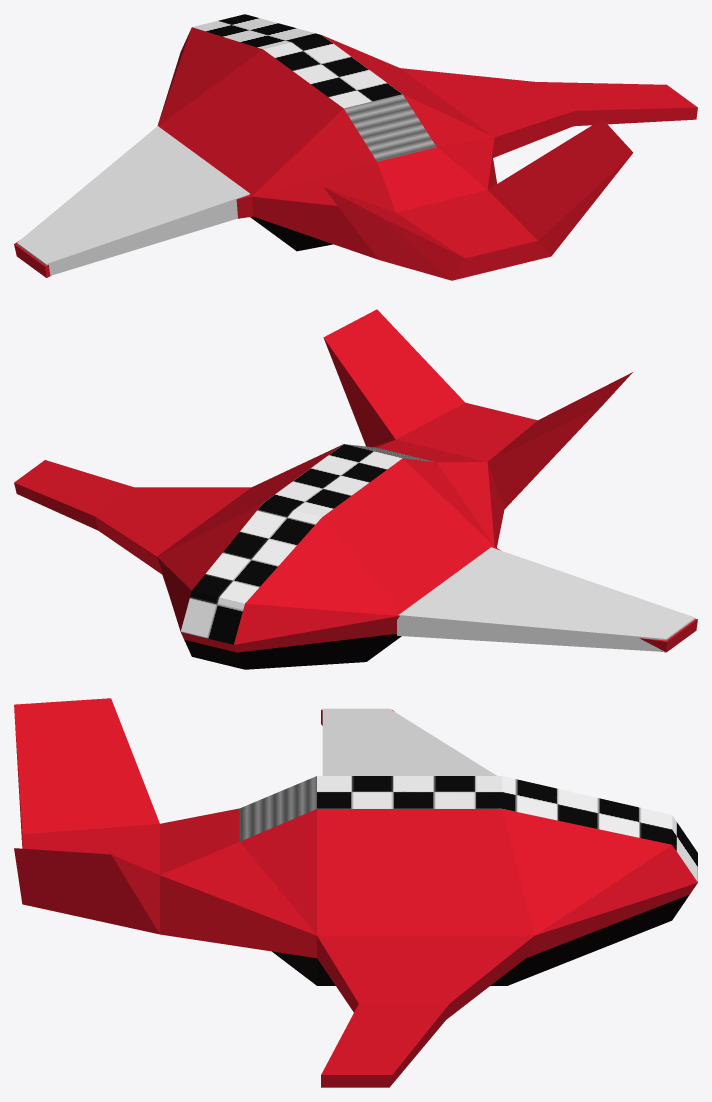
Rendered from enemy_drone.glb.
3 views of the same model, one above another, from view 1: azimuth 30°, elevation 25°; view 2: azimuth 150°, elevation 25°; view 3: azimuth 270°, elevation 25° (orthographic). The views are drawn at different scales.
Visible parts, largest first — view 1: drone01, drone0103_convcolonly.001; view 2: drone01, drone0103_convcolonly.001; view 3: drone01, drone0103_convcolonly.001.
Boxes of the visible parts, x1,y1,x2,y2 form: drone01: [14, 14, 697, 280]; drone0103_convcolonly.001: [17, 126, 249, 275]; drone01: [14, 309, 697, 669]; drone0103_convcolonly.001: [397, 547, 695, 651]; drone01: [14, 698, 697, 1087]; drone0103_convcolonly.001: [322, 708, 496, 775].
Size of what is drawn, in the model's own units: 5.38 by 1.14 by 4.25.
Materials: 1 (1 with a texture image).
